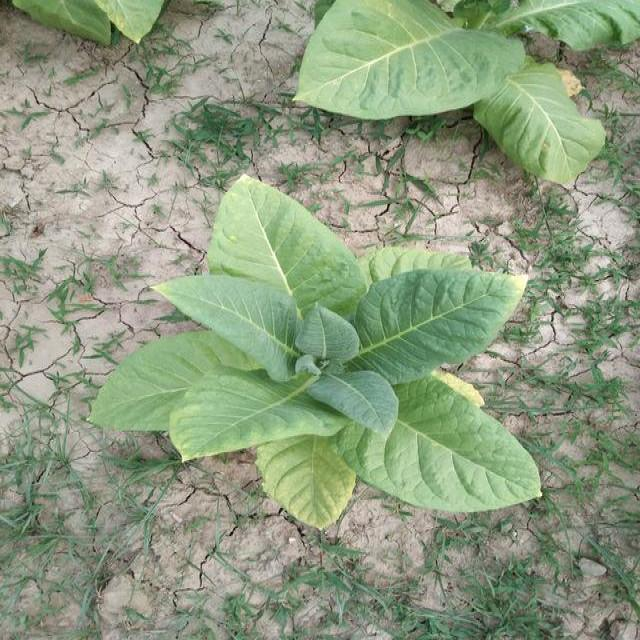crop: (80, 173, 549, 527), (297, 0, 633, 186)
